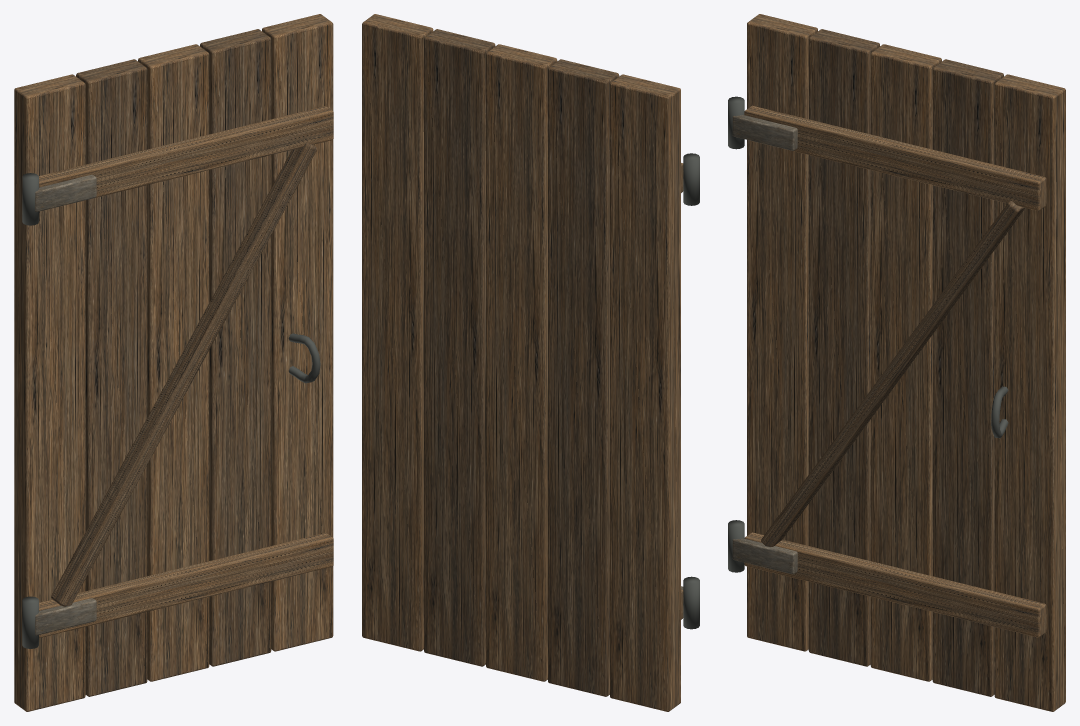
File: door_leaf_1m.glb
3 views of the same model, side by side, from view 1: azimuth 30°, elevation 25°; view 2: azimuth 150°, elevation 25°; view 3: azimuth 330°, elevation 25° (orthographic).
Visible parts, largest first — view 1: door_leaf_1m_mesh; view 2: door_leaf_1m_mesh; view 3: door_leaf_1m_mesh.
Boxes of the visible parts, box(x1,y1,x2,y2) form: door_leaf_1m_mesh: box(14, 14, 333, 711); door_leaf_1m_mesh: box(362, 14, 699, 711); door_leaf_1m_mesh: box(728, 14, 1065, 711).
Size of the model in its own units: 1.02 by 1.89 by 0.1981.
Materials: 4 (3 with a texture image).
